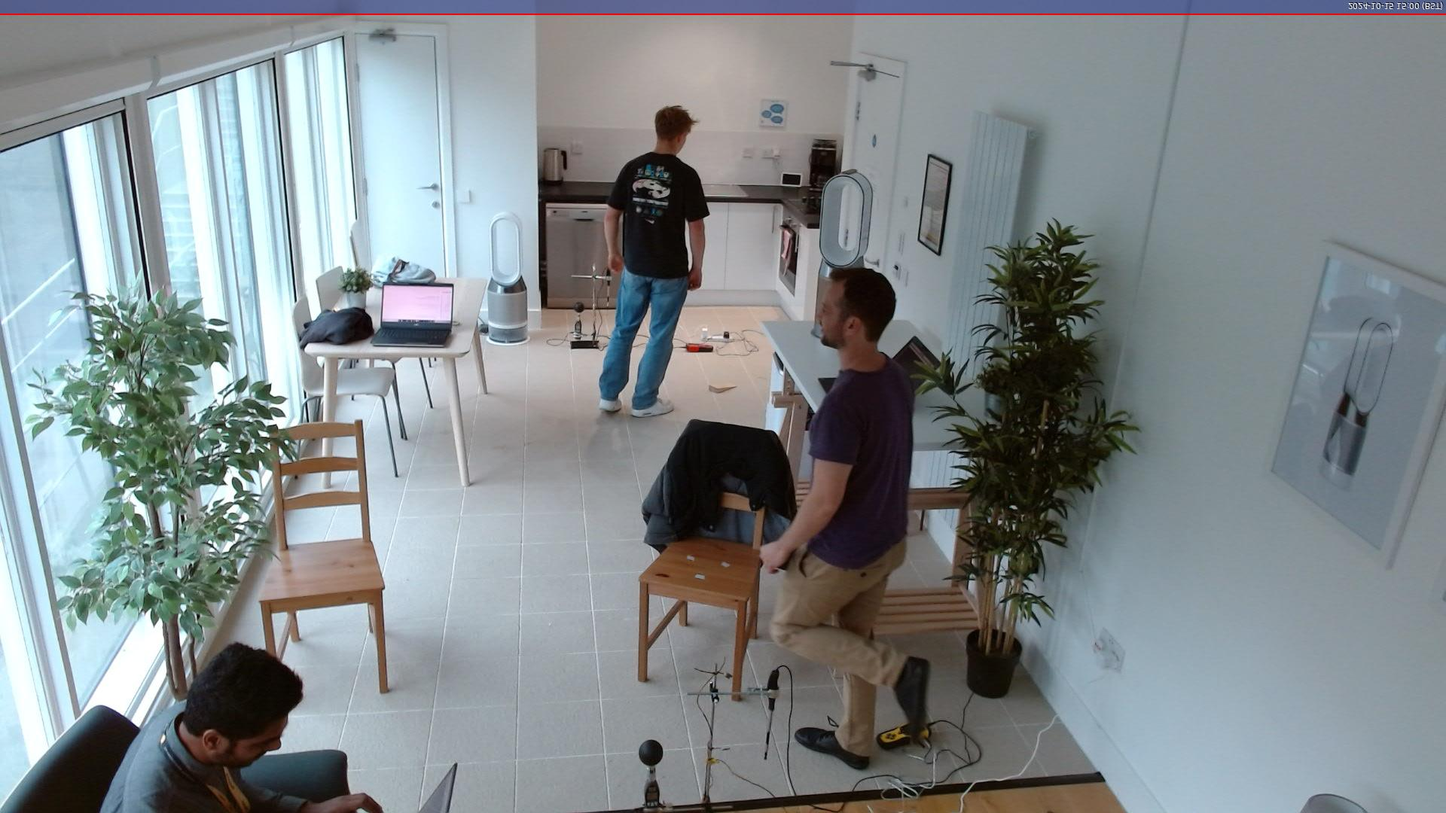long sleeve shirt: (101, 693, 310, 813)
short sleeve shirt: (803, 352, 915, 570), (603, 148, 710, 285)
trousers: (769, 531, 910, 758), (596, 268, 691, 410)
